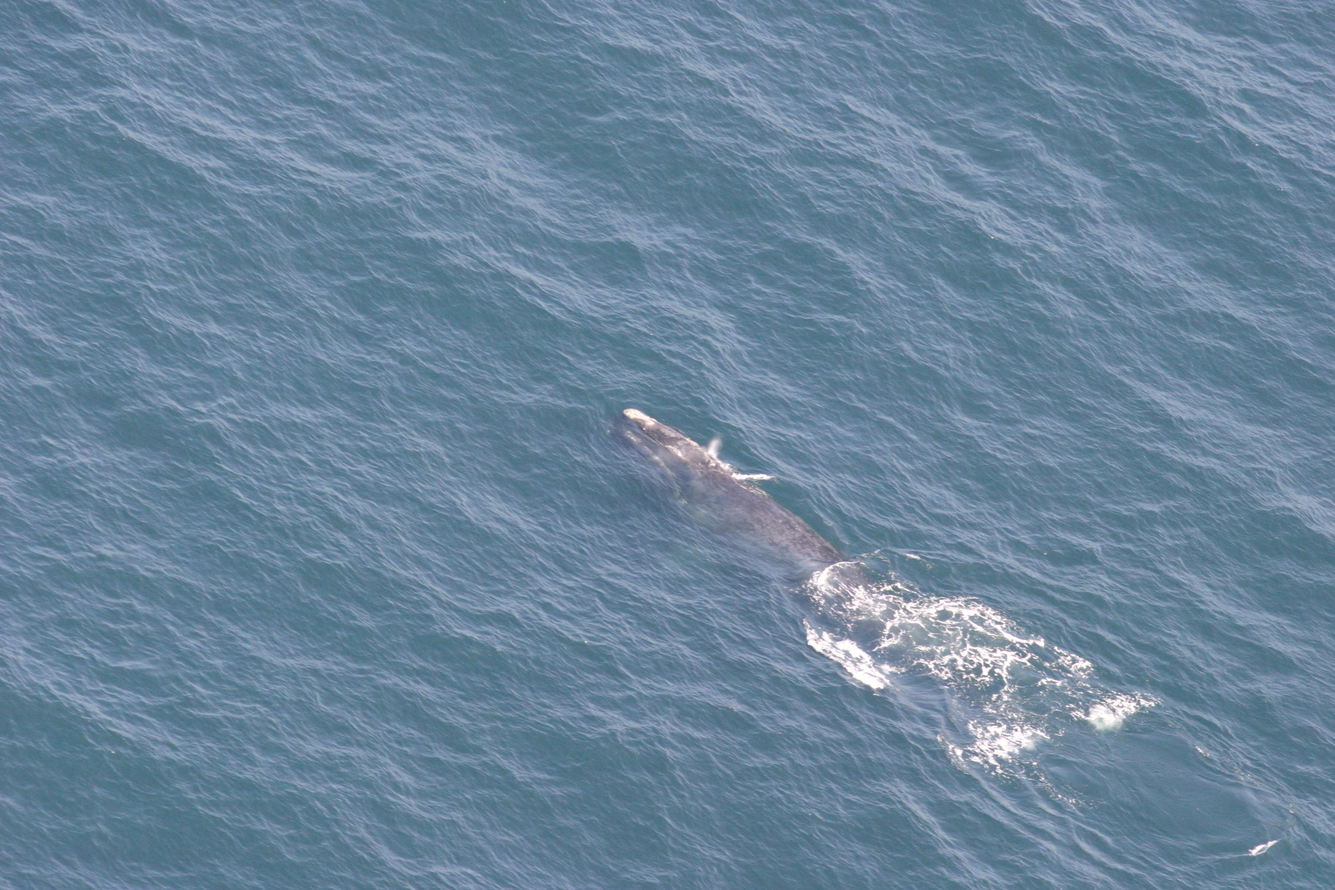whale: (604, 402, 945, 671)
